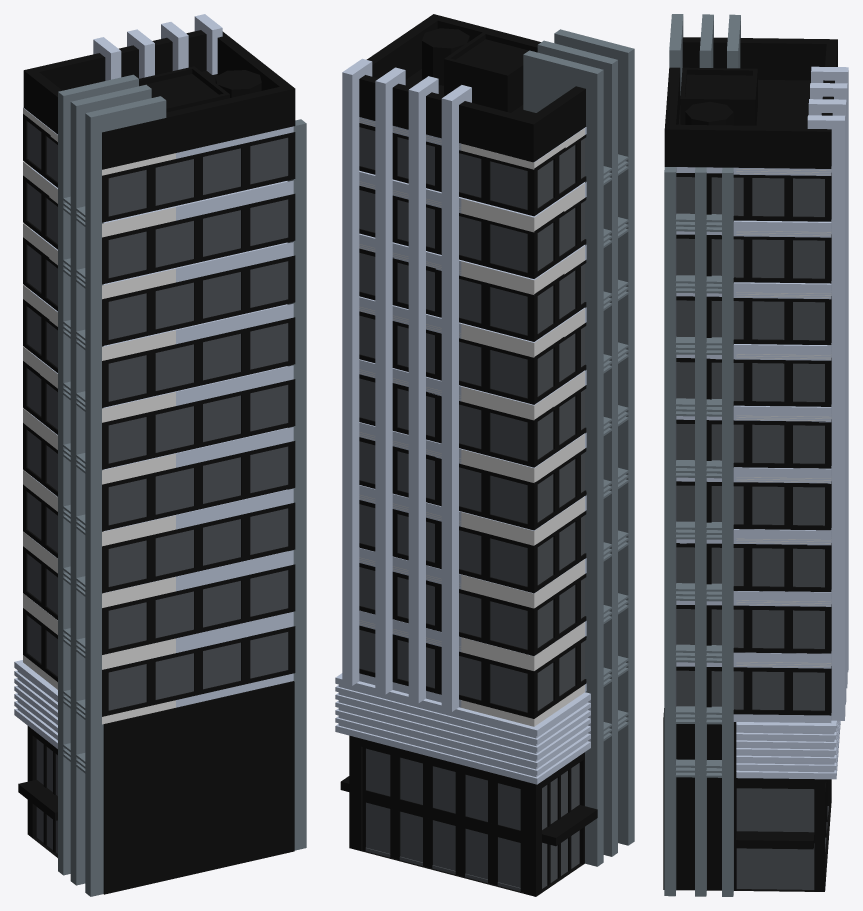
File: highrise.glb
3 views of the same model, side by side, from view 1: azimuth 30°, elevation 25°; view 2: azimuth 150°, elevation 25°; view 3: azimuth 270°, elevation 25° (orthographic).
Parts seen in each view (by area): view 1: Object_119; view 2: Object_119; view 3: Object_119.
Part boxes in pixels (x1,y1,x2,y2): Object_119: (14,14,306,896); Object_119: (335,14,634,896); Object_119: (663,14,848,896).
Bounding box in the file's own units: 12.8 × 43.79 × 9.45.
Materials: 1 (1 with a texture image).
